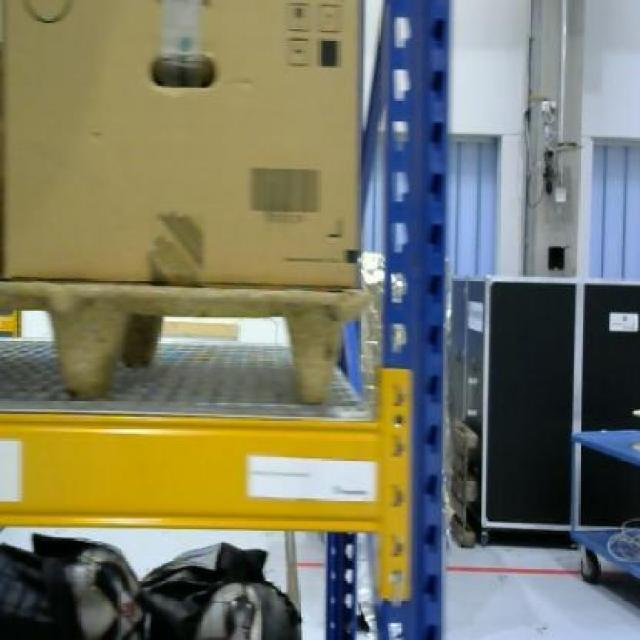box: (1, 1, 361, 284)
